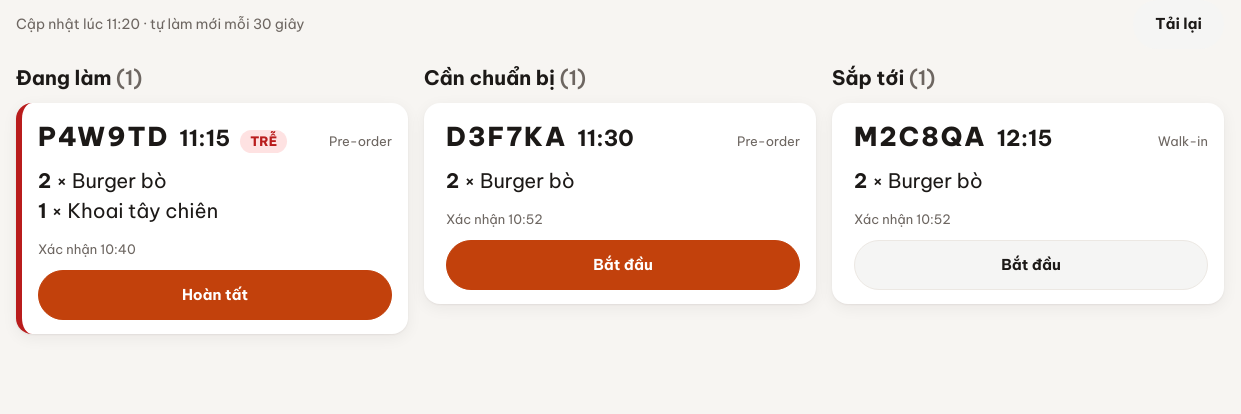
Test case: KitchenPage (UC-12.1) › thao tác của bếp (UC-12.2) › đơn đã đổi trạng thái ở nơi khác: báo và làm mới, không coi là lỗi hệ thống (E1)
Click the button with aria-label "Bắt đầu đơn D3F7KA": point(623, 265) [446,240,800,290]
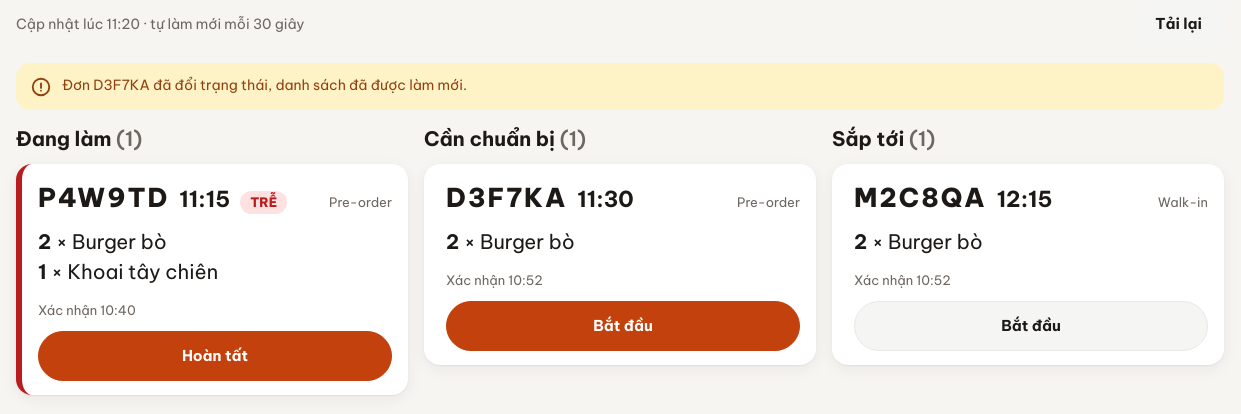
Expected: the text "Đơn D3F7KA đã đổi trạng thái, danh sách đã được làm mới." is shown, [62,74,467,98]
